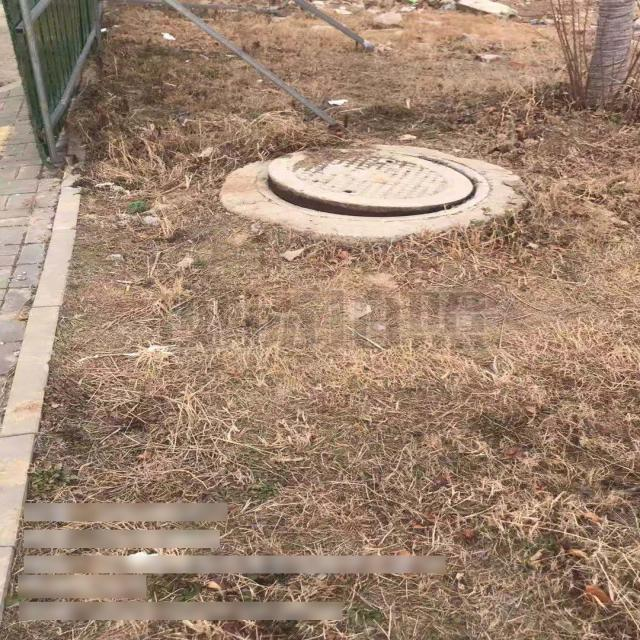Lose: (256, 148, 491, 222)
